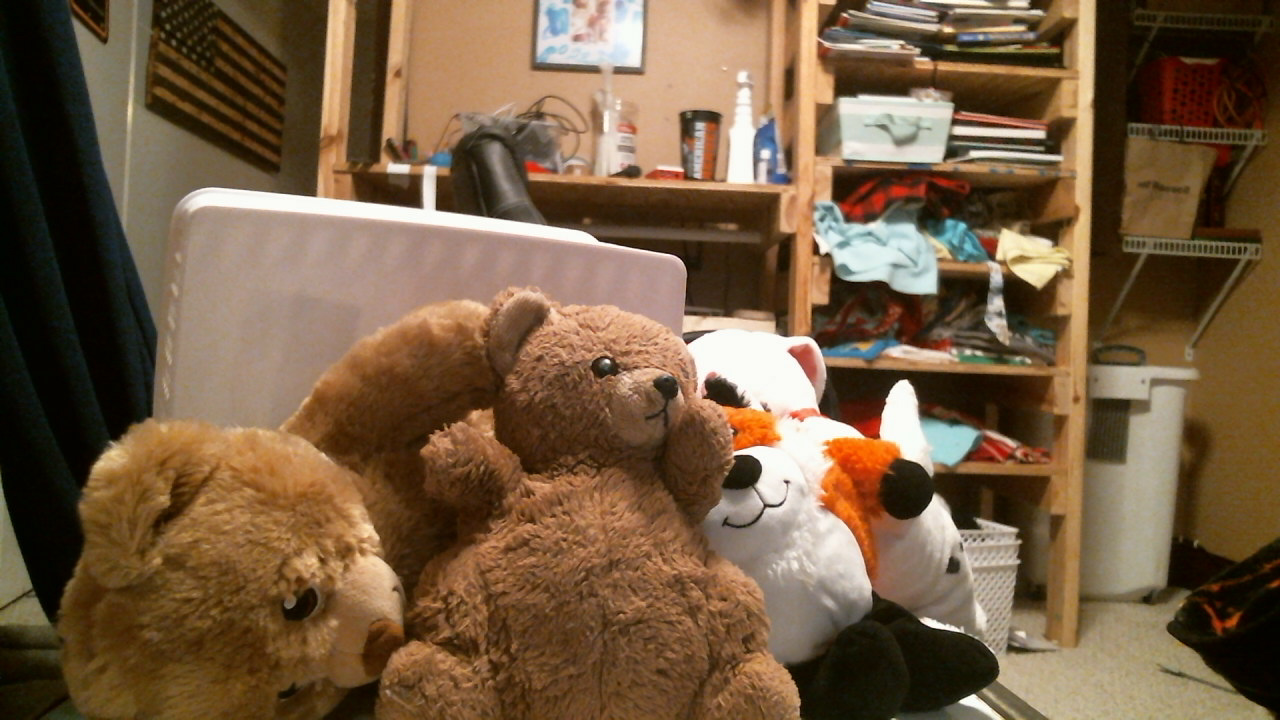Little_Mister_Bear: (575, 355, 700, 433)
